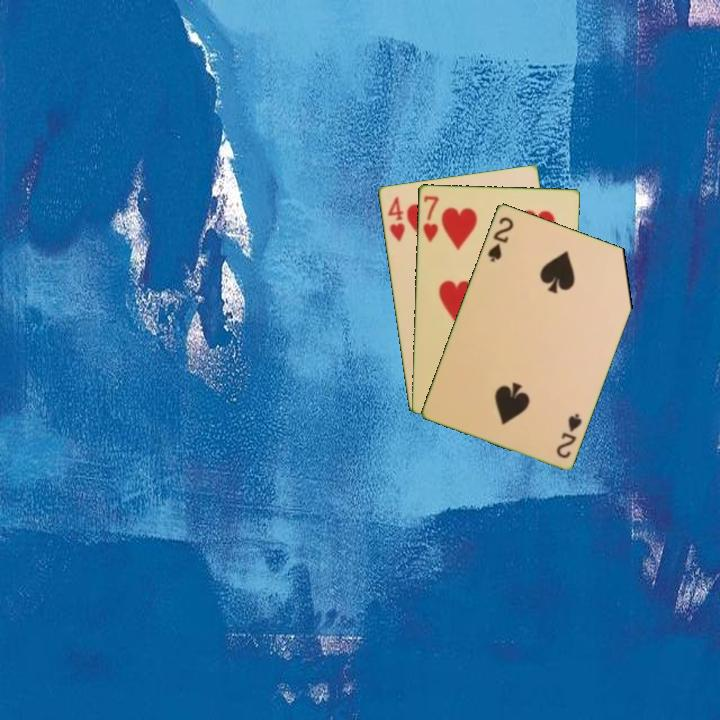2s: (552, 409, 585, 461), (484, 213, 516, 265)
4h: (384, 192, 407, 244)
7h: (419, 192, 441, 245)
